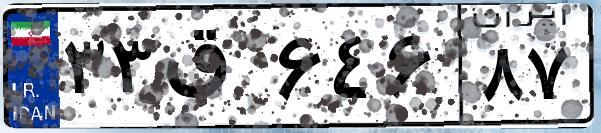3: (57, 26, 110, 100), (110, 28, 158, 98)
4: (330, 28, 385, 110)
6: (270, 28, 330, 110), (385, 28, 445, 110)
7: (525, 38, 570, 115)
8: (475, 38, 525, 113)
ق: (158, 20, 270, 120)
